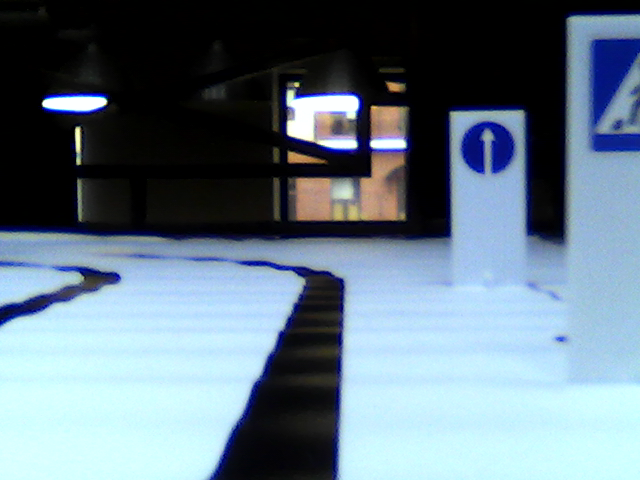forw: (462, 125, 512, 175)
